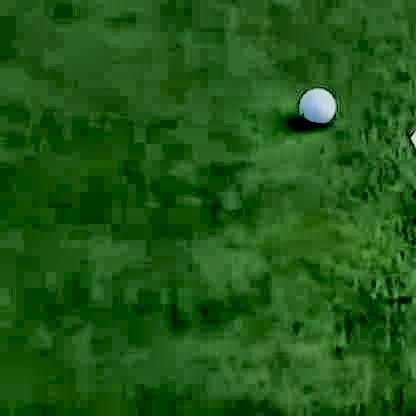golfball: (293, 83, 335, 125)
